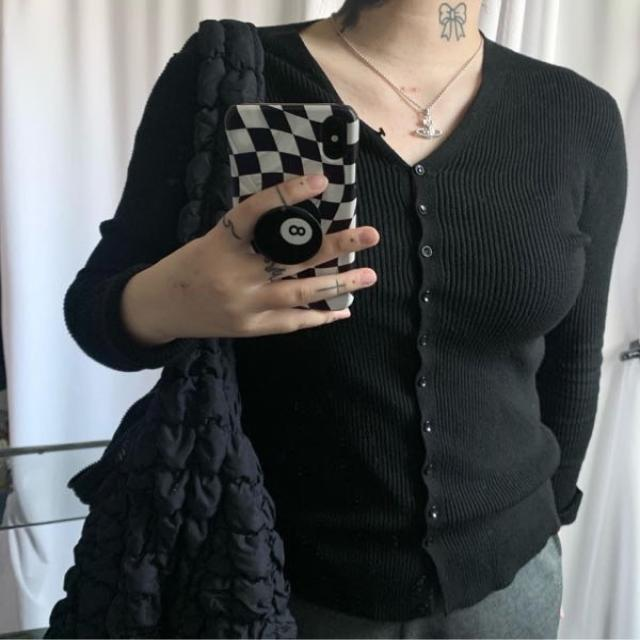cardigan: (62, 15, 632, 618)
